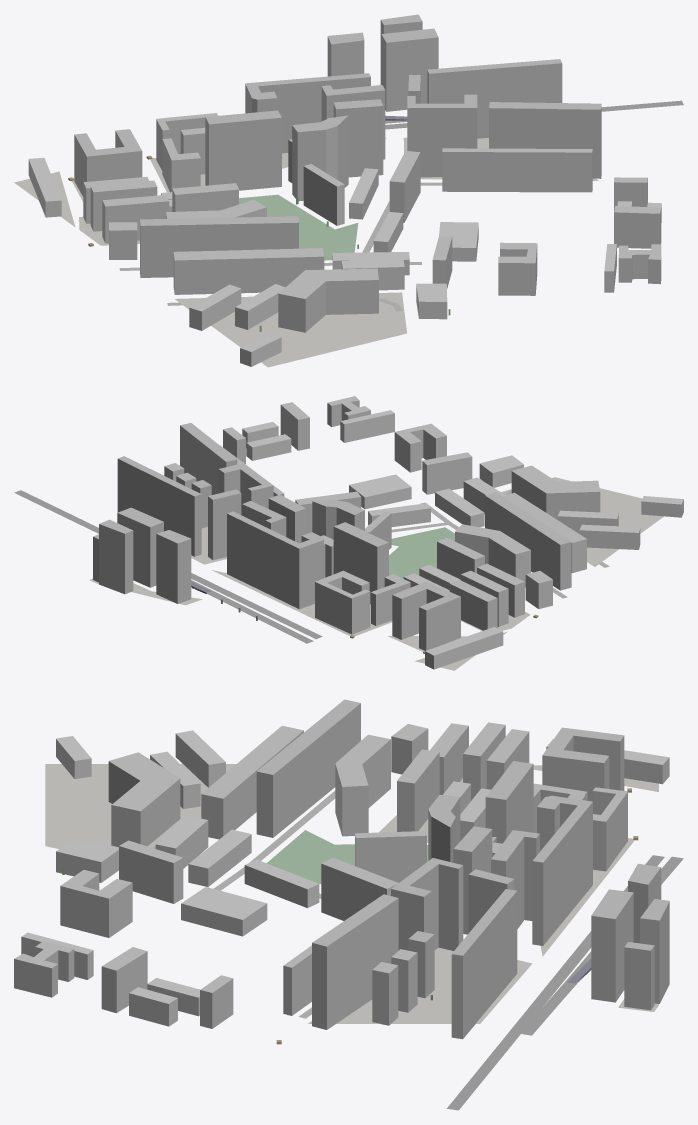
3 views of the same model, one above another, from view 1: azimuth 30°, elevation 25°; view 2: azimuth 150°, elevation 25°; view 3: azimuth 270°, elevation 25° (orthographic). The views are drawn at different scales.
Bounding box in the file's own units: 685 × 77.34 × 546.
